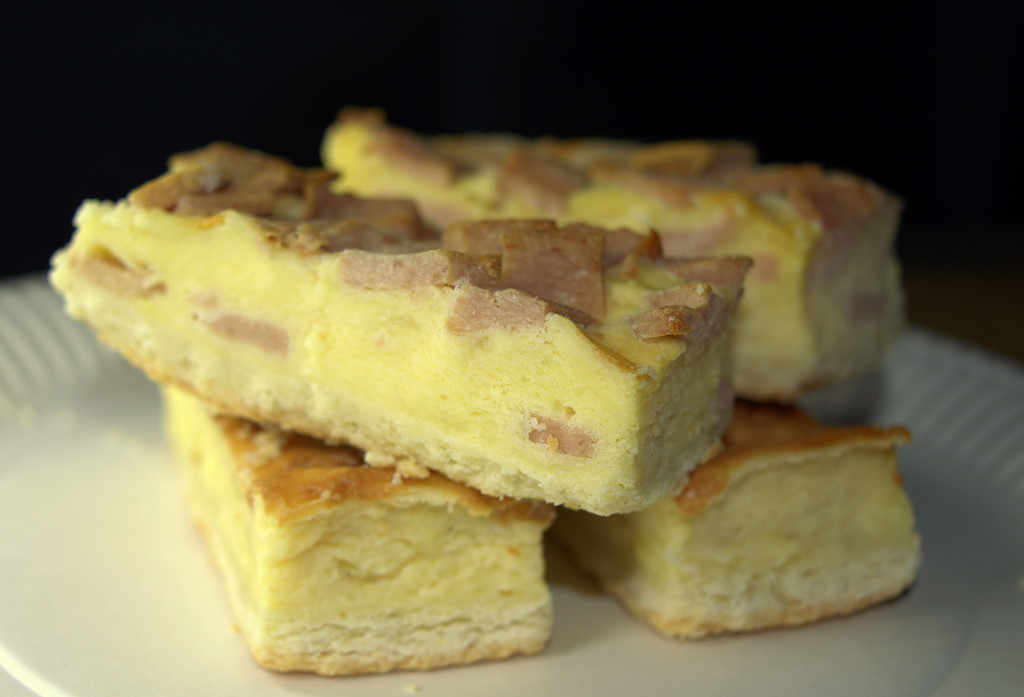slice of bread: (122, 204, 668, 389)
